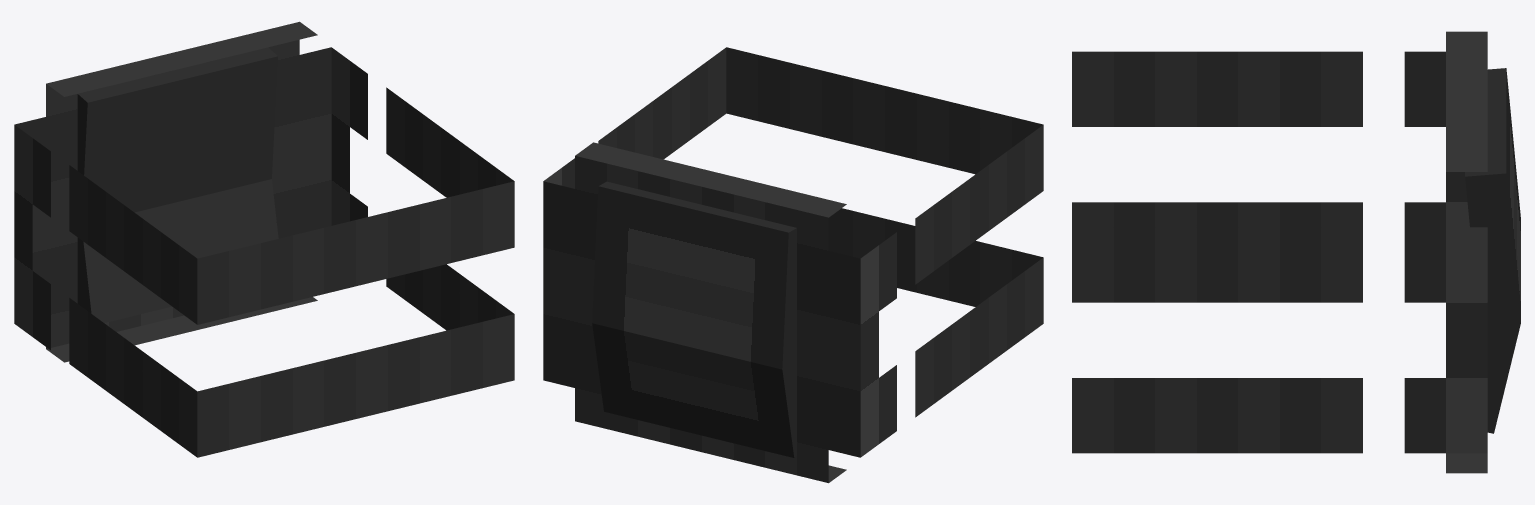
Rendered from sobr_kit_p_l.obj.
The picture shows the model from 3 angles, left to right: view 1: azimuth 30°, elevation 25°; view 2: azimuth 150°, elevation 25°; view 3: azimuth 270°, elevation 25°; orthographic projection. The views are drawn at different scales.
Visible parts, largest first — view 1: mesh; view 2: mesh; view 3: mesh.
Boxes of the visible parts, x1=… form: mesh: x1=14, y1=21, x2=514, y2=457; mesh: x1=543, y1=47, x2=1043, y2=483; mesh: x1=1072, y1=31, x2=1520, y2=473.
Size of the model in its own units: 0.3125 by 0.25 by 0.3375.
